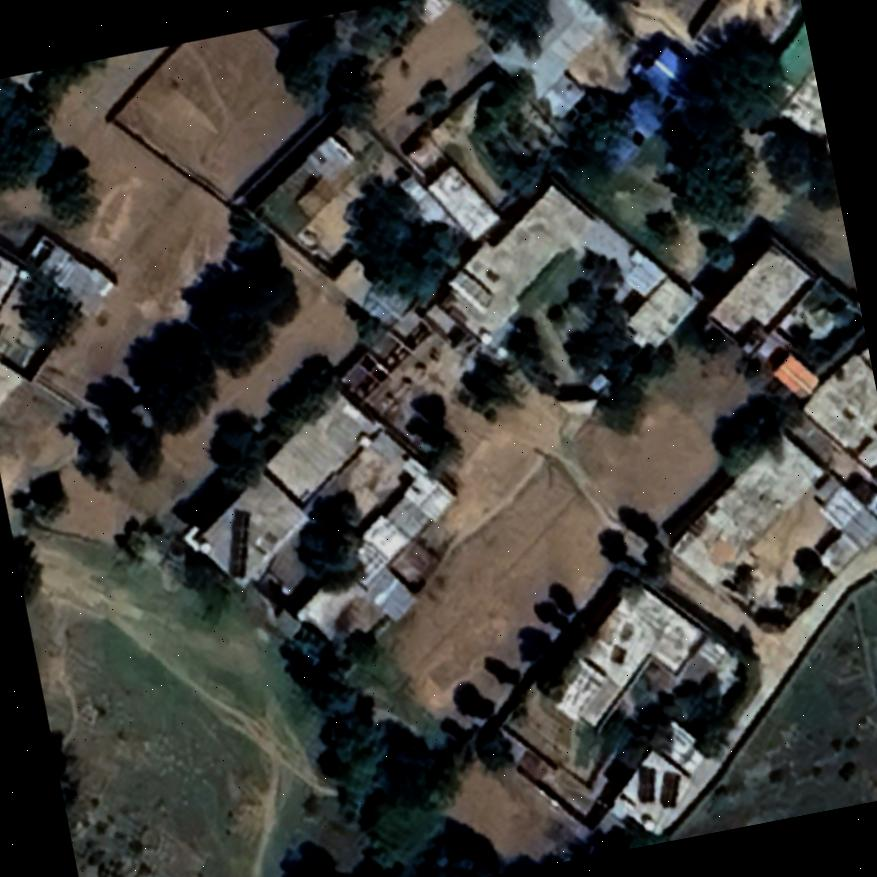Solarpanel: (215, 506, 260, 581), (652, 765, 684, 810), (629, 761, 660, 805)
